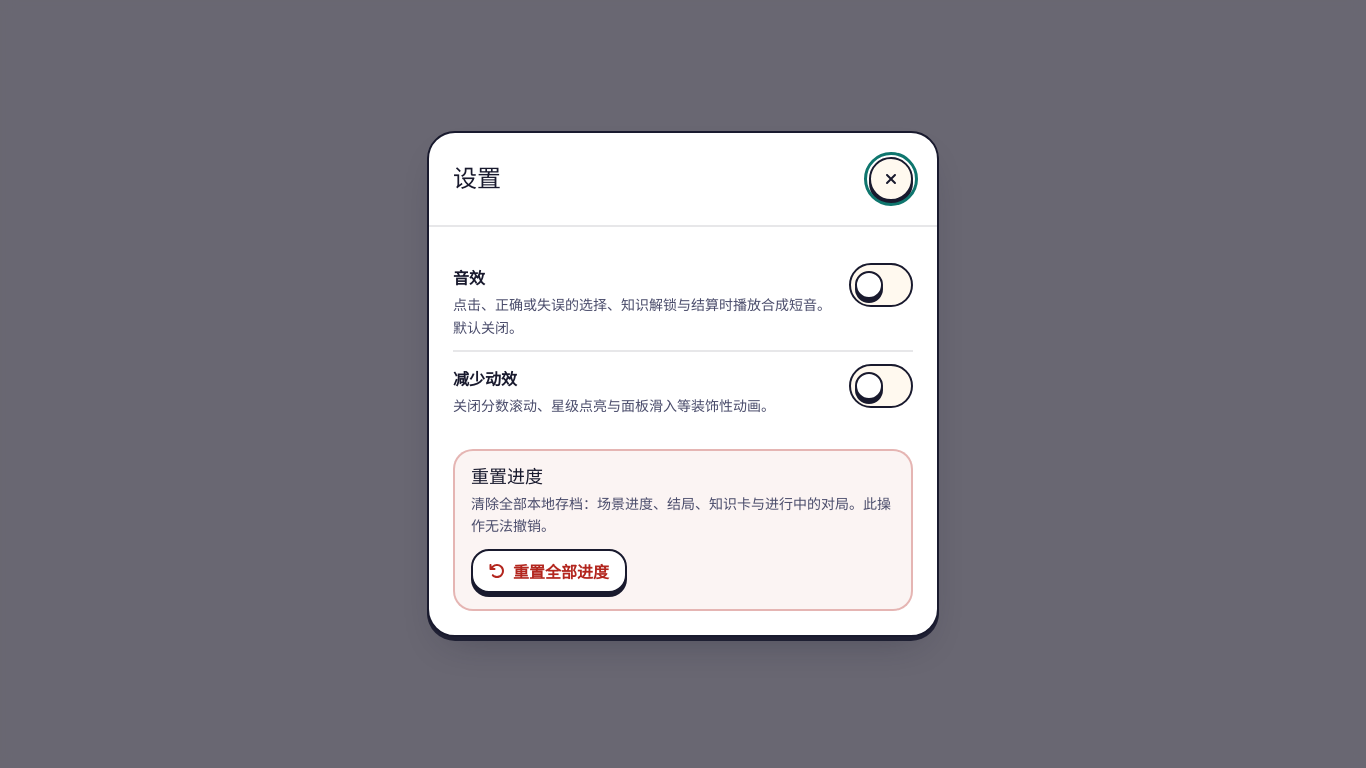
Scenario: SettingsDialog › 重置全部进度需要二次确认，且不触碰其他前缀的数据
What coordinates should you click on to do the following:
click the button "重置全部进度"
I would click on:
 (549, 571)
Its box is [471,549,627,593].
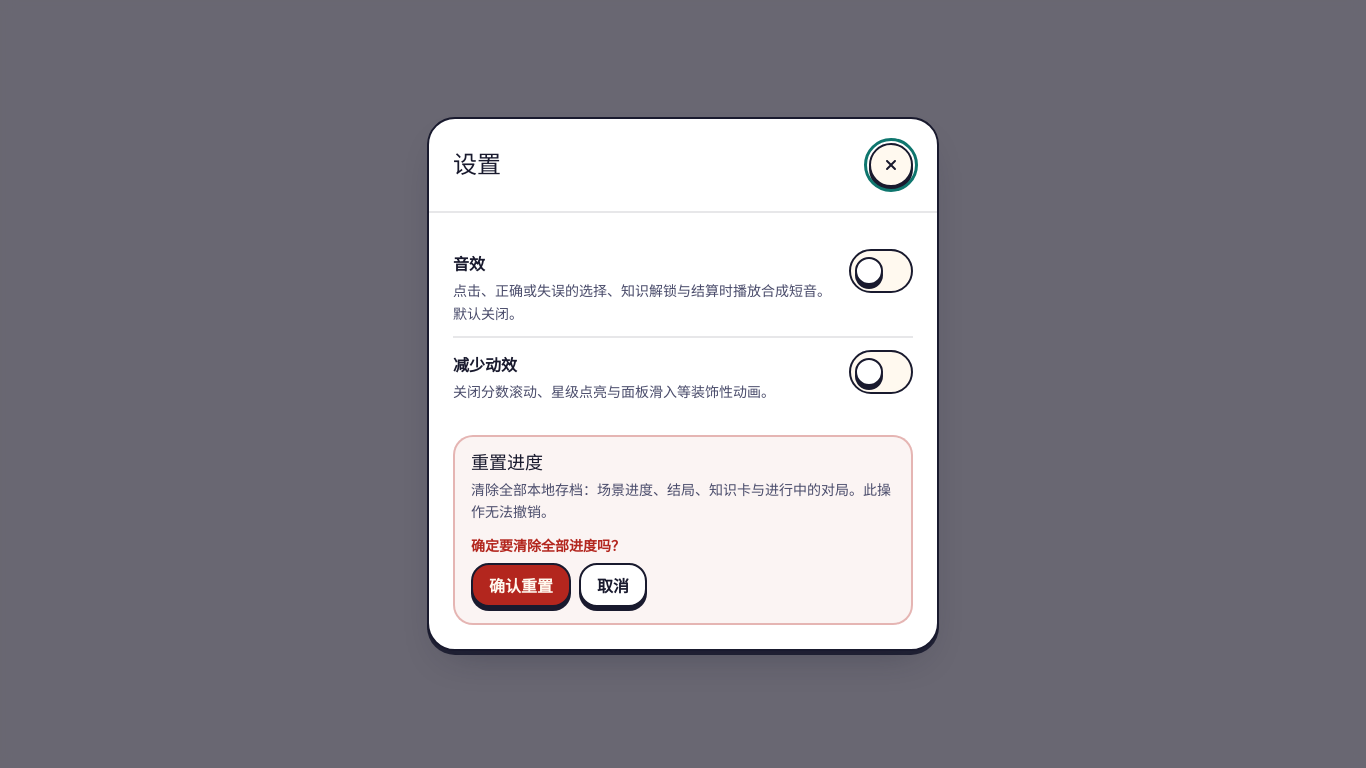
expect the text "确定要清除全部进度吗？" is shown: met, box [471,535,625,555]
What coordinates should you click on to do the following:
click the button "确认重置"
I would click on:
 (521, 585)
Its box is [471,563,571,607].
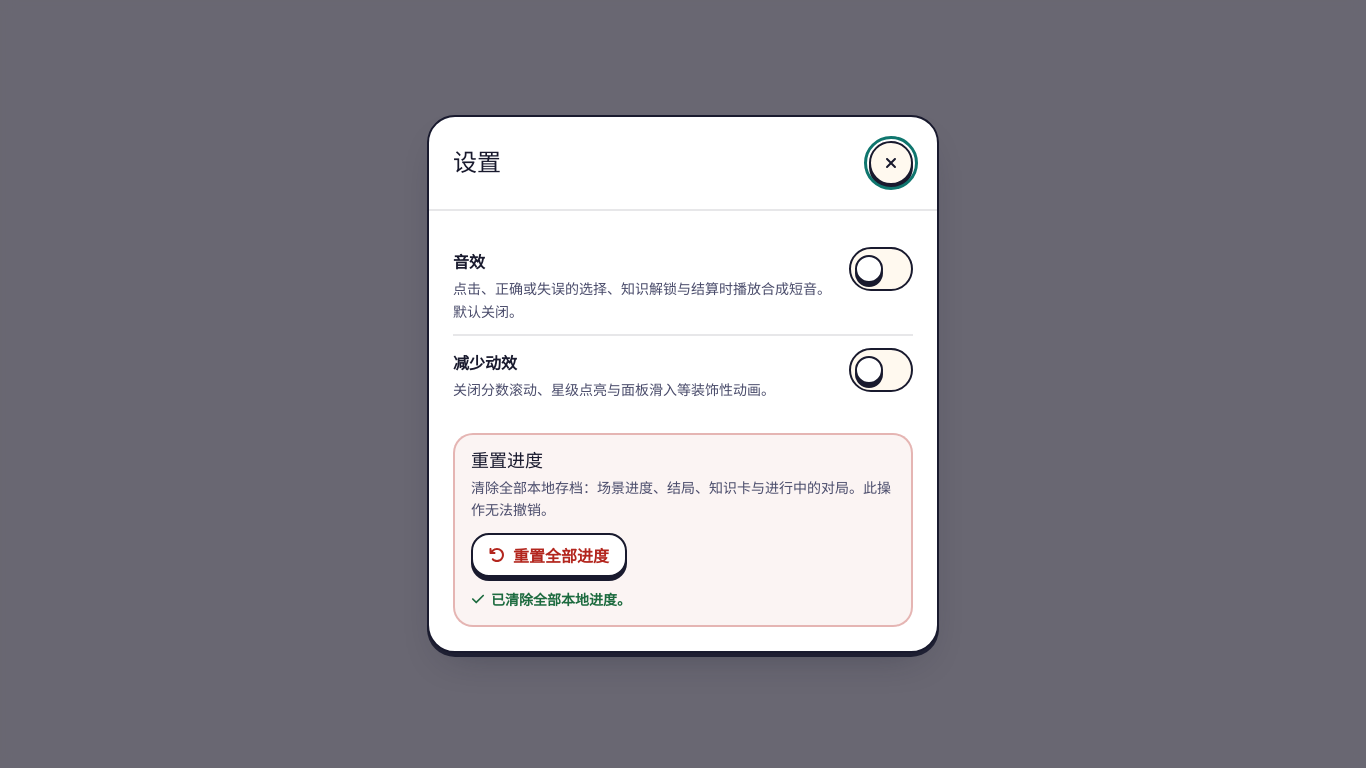
expect the message reads "已清除全部本地进度。": met, box [491,589,631,609]
